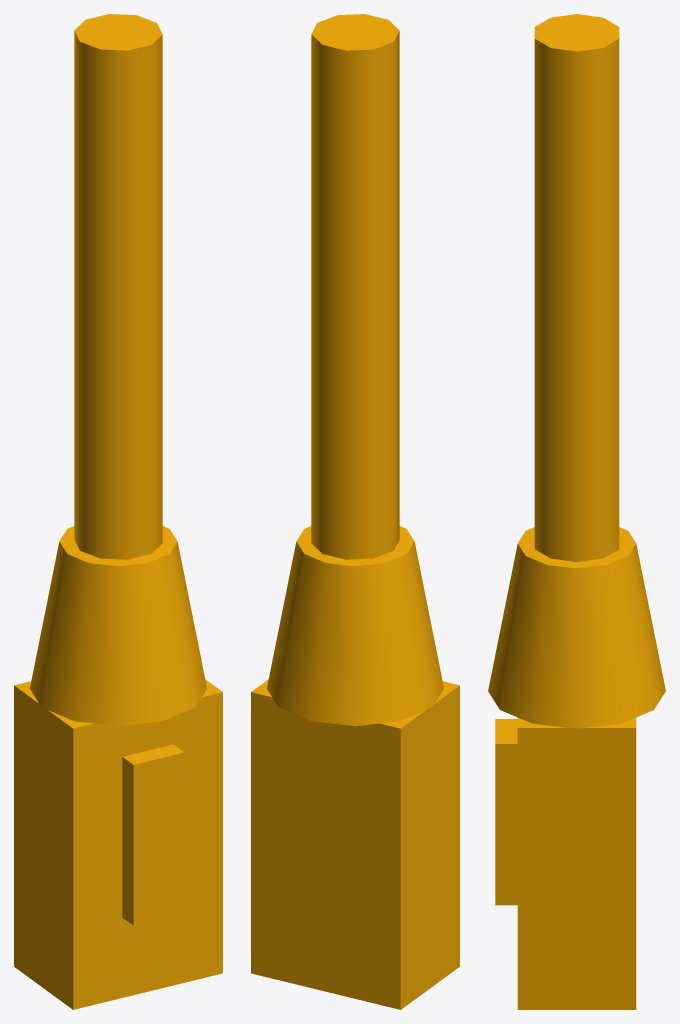
File: cable-plug.glb
3 views of the same model, side by side, from view 1: azimuth 30°, elevation 25°; view 2: azimuth 150°, elevation 25°; view 3: azimuth 270°, elevation 25° (orthographic).
Visible parts, largest first — view 1: cable-plug; view 2: cable-plug; view 3: cable-plug.
Part boxes in pixels (left/top/right/bottom): cable-plug: left=14, top=14, right=222, bottom=1009; cable-plug: left=251, top=14, right=459, bottom=1009; cable-plug: left=488, top=14, right=665, bottom=1009.
Bounding box in the file's own units: 0.012 × 0.07 × 0.012.
